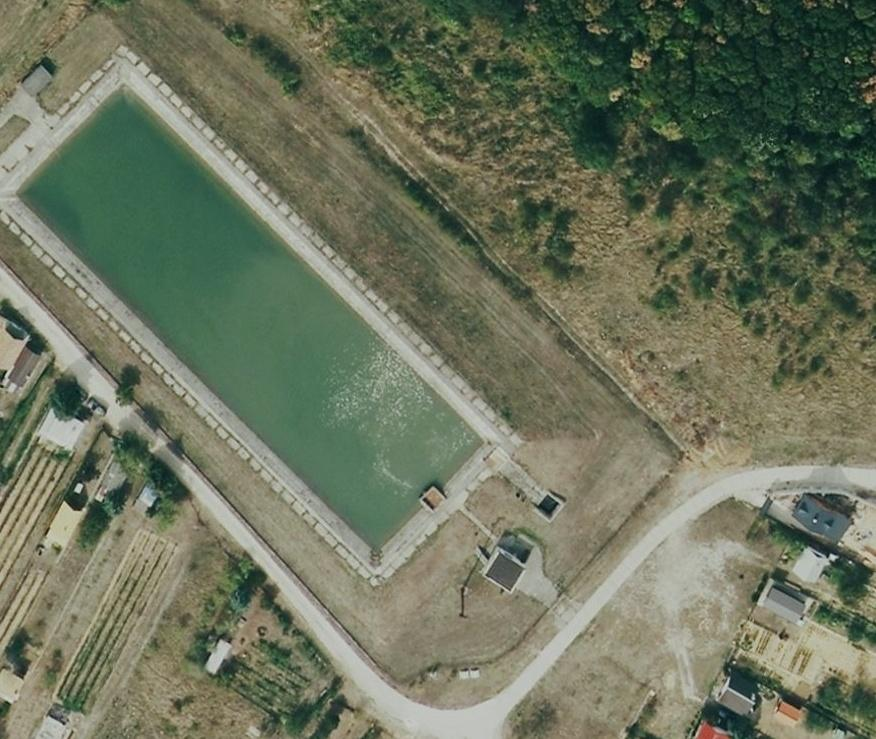field: (111, 0, 650, 439), (0, 421, 123, 661), (55, 512, 183, 711)
forest: (398, 4, 872, 252)
lake: (24, 96, 479, 547)
